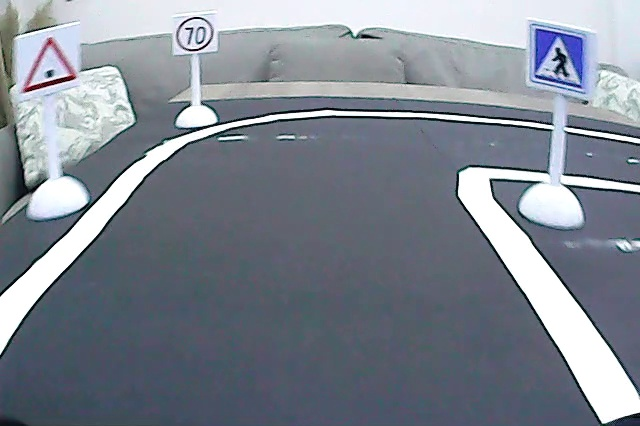green light: (19, 32, 79, 95)
pedestrian crossing: (527, 20, 589, 99)
speed limit 70: (172, 15, 217, 55)
